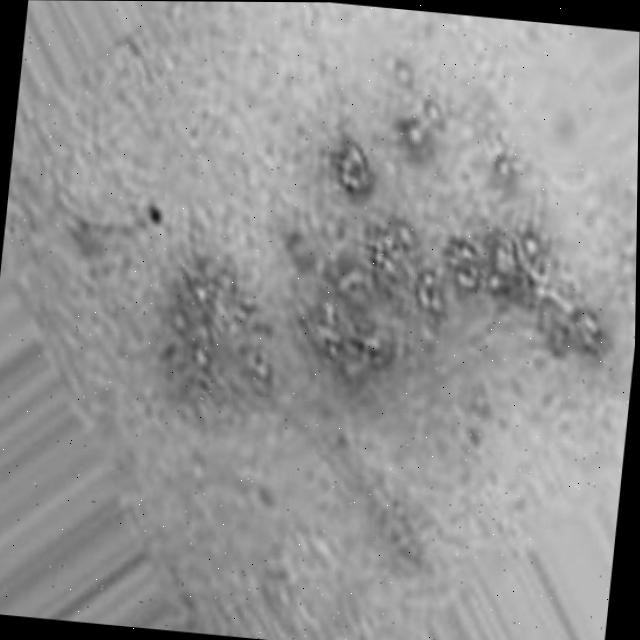Shingles: (300, 142, 615, 352), (169, 268, 263, 388)
